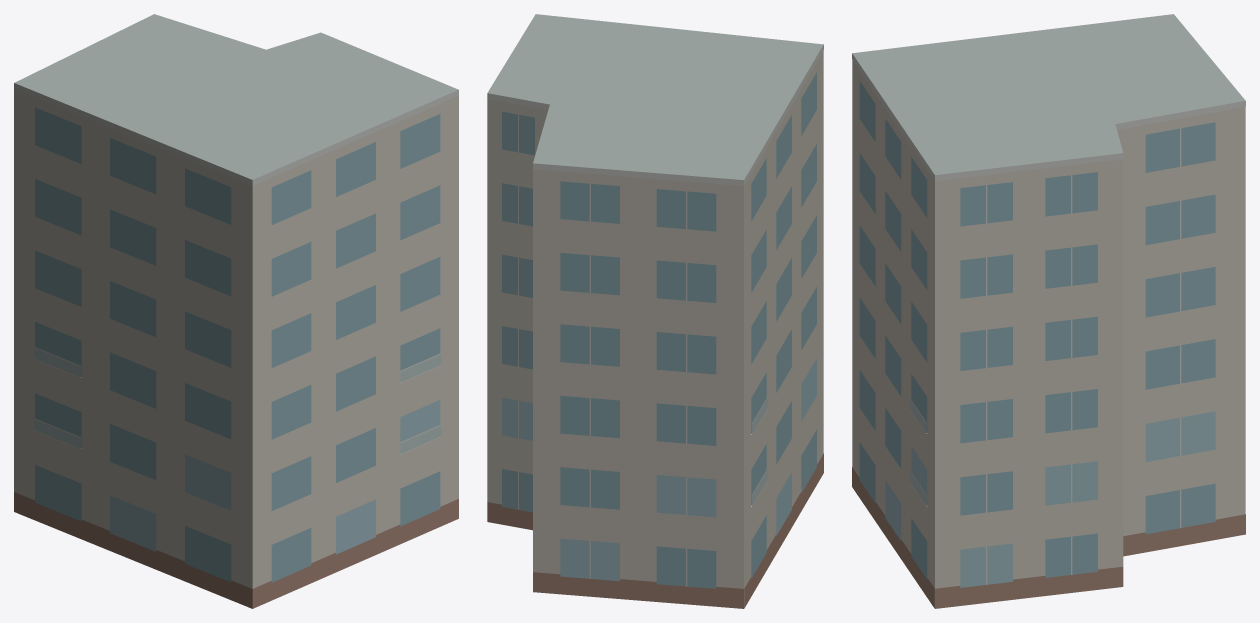
File: survey-upis-32862657.glb
The picture shows the model from 3 angles, left to right: view 1: azimuth 30°, elevation 25°; view 2: azimuth 150°, elevation 25°; view 3: azimuth 270°, elevation 25°; orthographic projection.
Visible parts, largest first — view 1: survey-upis-32862657.tmp; view 2: survey-upis-32862657.tmp; view 3: survey-upis-32862657.tmp.
Boxes of the visible parts, box(x1,y1,x2,y2) form: survey-upis-32862657.tmp: box(14, 14, 458, 608); survey-upis-32862657.tmp: box(487, 14, 823, 608); survey-upis-32862657.tmp: box(852, 14, 1245, 608).
Size of the model in its own units: 14.03 by 17.6 by 14.49.
